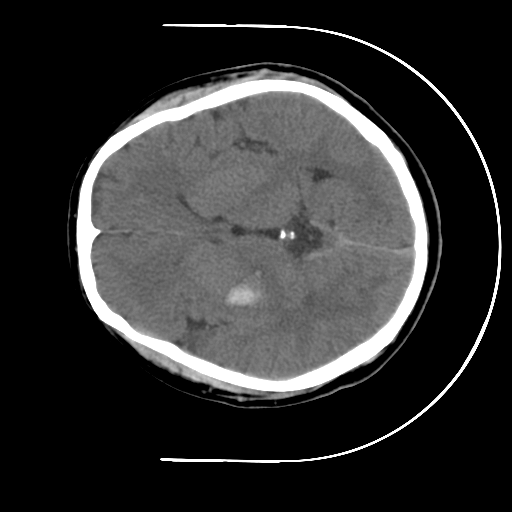a: (213, 263, 284, 319)
